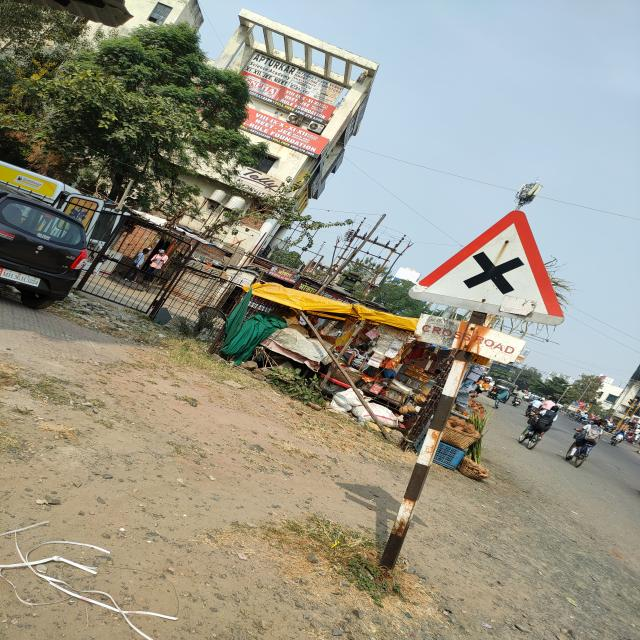cross_road: (407, 210, 579, 326)
